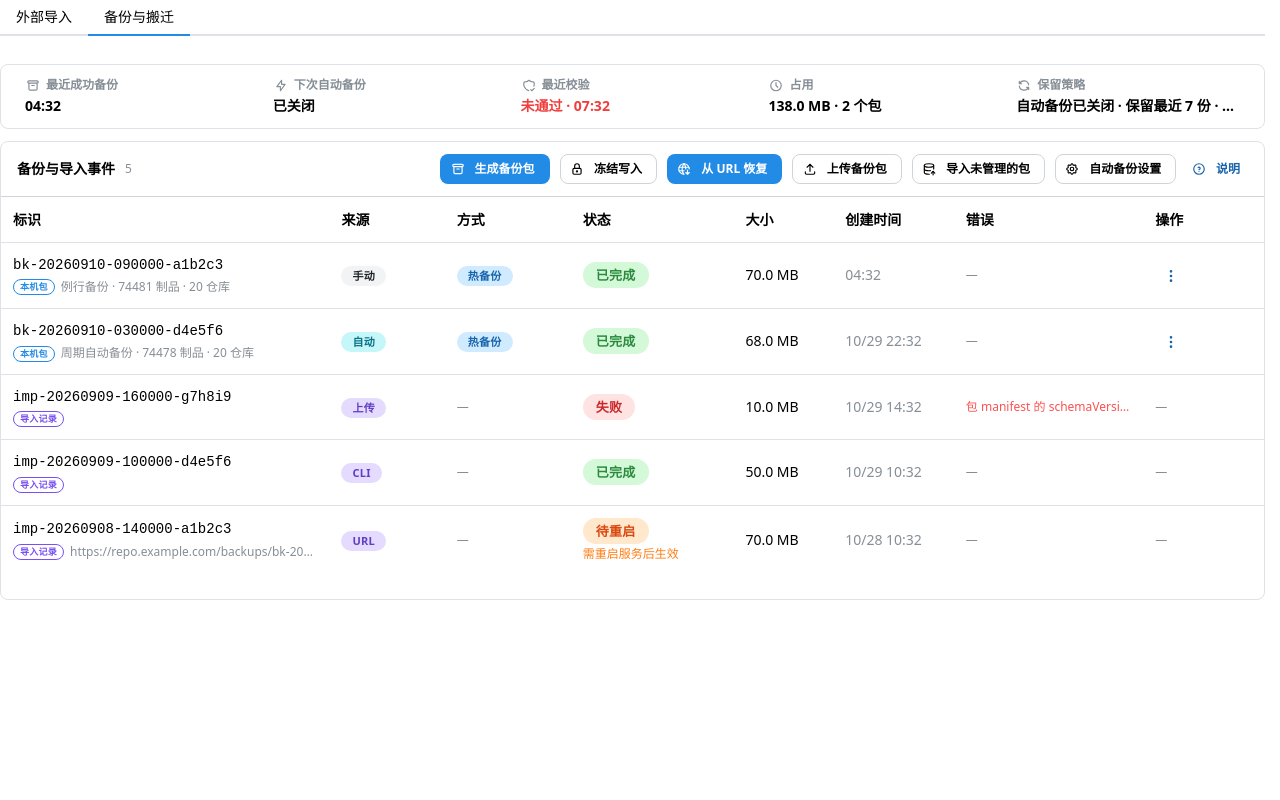
Test case: 备份与搬迁 › 「自动备份设置」入口必须可达，且打开后三项配置在弹窗里
The width and height of the screenshot is (1280, 800).
Click the button "自动备份设置": (1116, 169) [1055,154,1176,184]
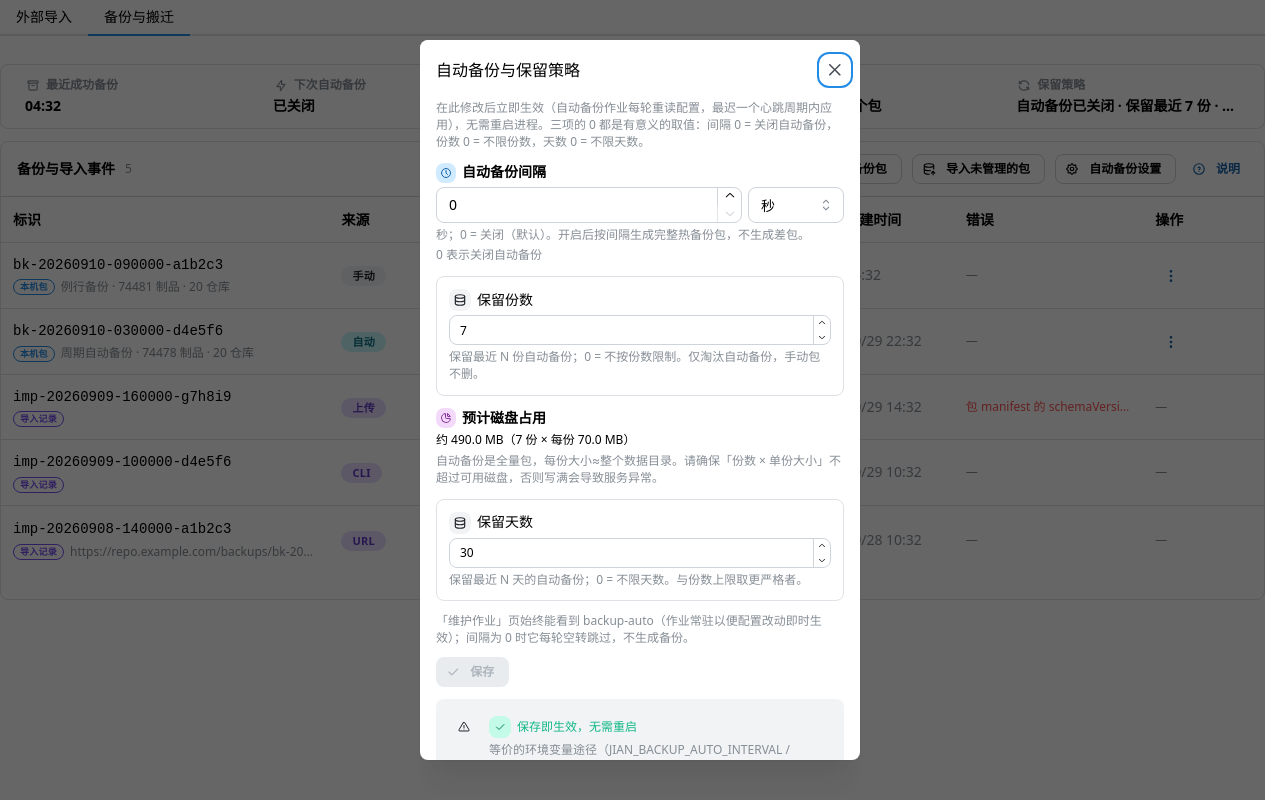
Expected: the field with test id "auto-interval" is shown, [436,187,742,223]
Expected: the field with test id "keep-last" is shown, [449,315,831,345]
Expected: the field with test id "retention-days" is shown, [449,538,831,568]
